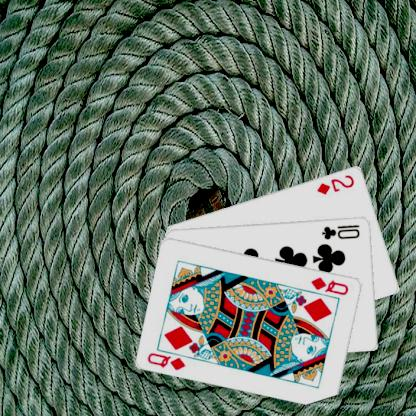10C: (319, 222, 362, 240)
2D: (314, 172, 356, 196)
QD: (308, 274, 350, 296), (145, 350, 187, 372)
